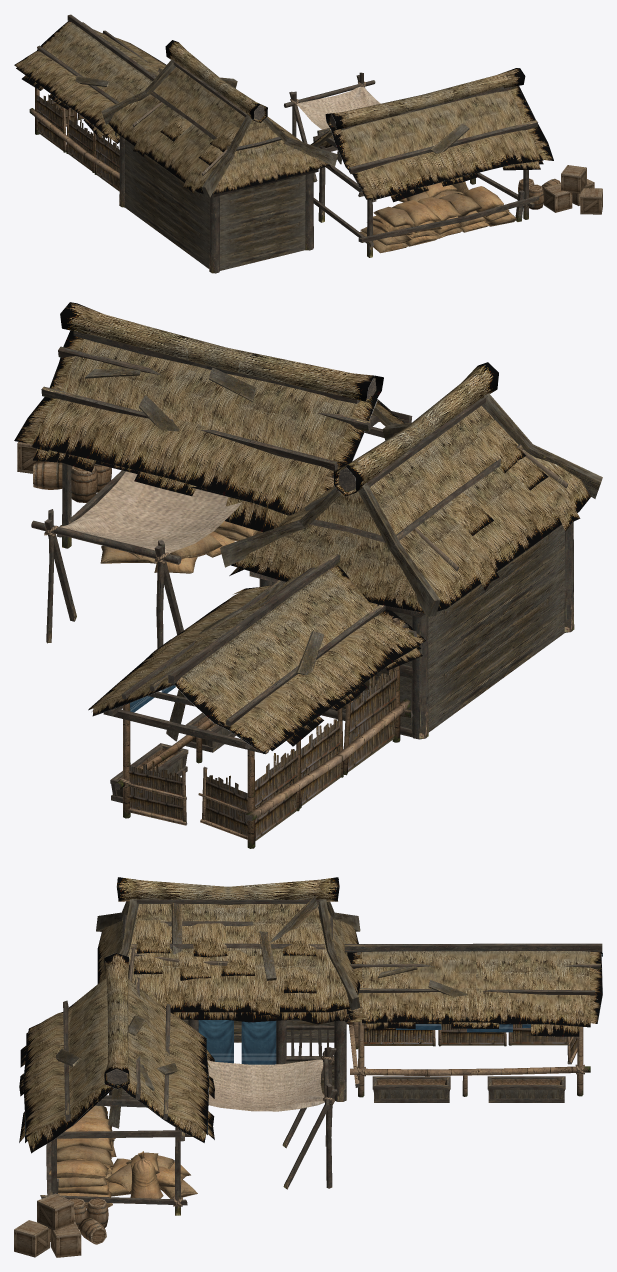
The model's file is MainCity_MaJiu_01.fbx.
3 renders of one model, top to bottom at view 1: azimuth 30°, elevation 25°; view 2: azimuth 150°, elevation 25°; view 3: azimuth 270°, elevation 25°, orthographic. The views are drawn at different scales.
Visible parts, largest first — view 1: MainCity_MaJiu_01; view 2: MainCity_MaJiu_01; view 3: MainCity_MaJiu_01.
Boxes of the visible parts, box(x1,y1,x2,y2) form: MainCity_MaJiu_01: box(14, 14, 602, 273); MainCity_MaJiu_01: box(14, 302, 602, 848); MainCity_MaJiu_01: box(14, 877, 602, 1257).
Size of the model in its own units: 2216 by 893 by 2416.
